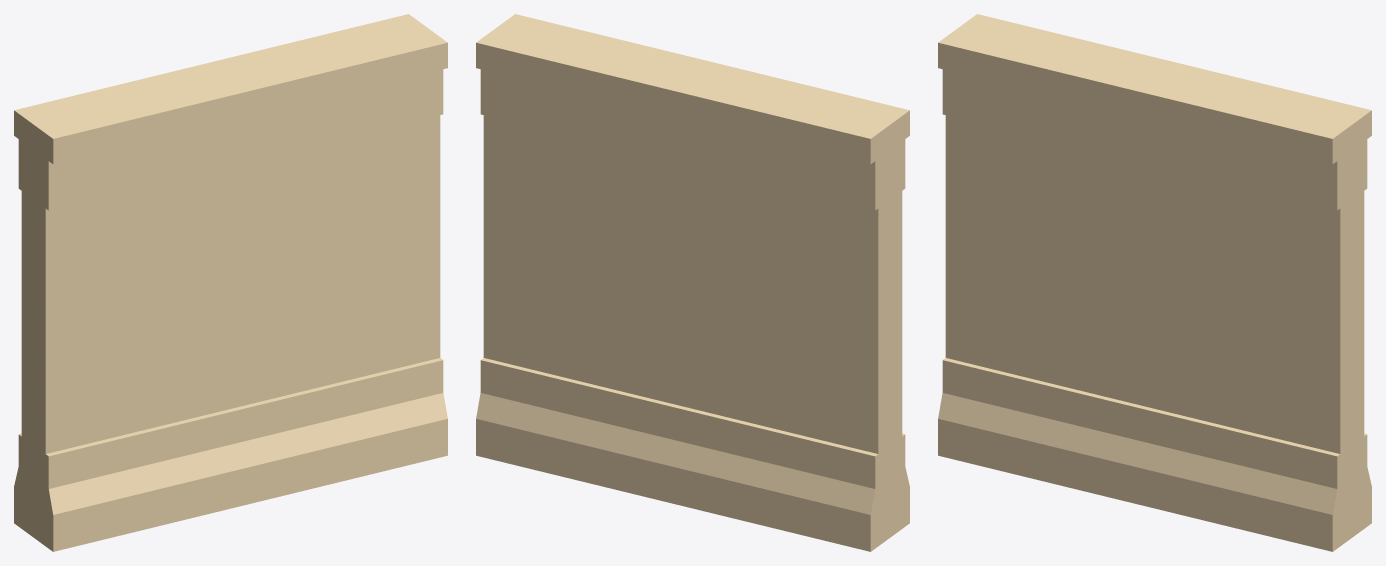
File: HeavenWall.fbx
3 renders of one model, left to right at view 1: azimuth 30°, elevation 25°; view 2: azimuth 150°, elevation 25°; view 3: azimuth 330°, elevation 25°, orthographic.
Parts seen in each view (by area): view 1: Cube.015; view 2: Cube.015; view 3: Cube.015.
Part boxes in pixels (bbox=[...]): Cube.015: bbox=[14, 14, 447, 551]; Cube.015: bbox=[476, 14, 909, 551]; Cube.015: bbox=[938, 14, 1371, 551].
Size of the model in its own units: 400 by 400 by 68.79.
